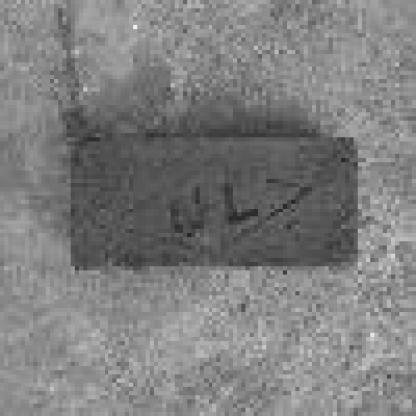brick: (65, 130, 360, 273)
